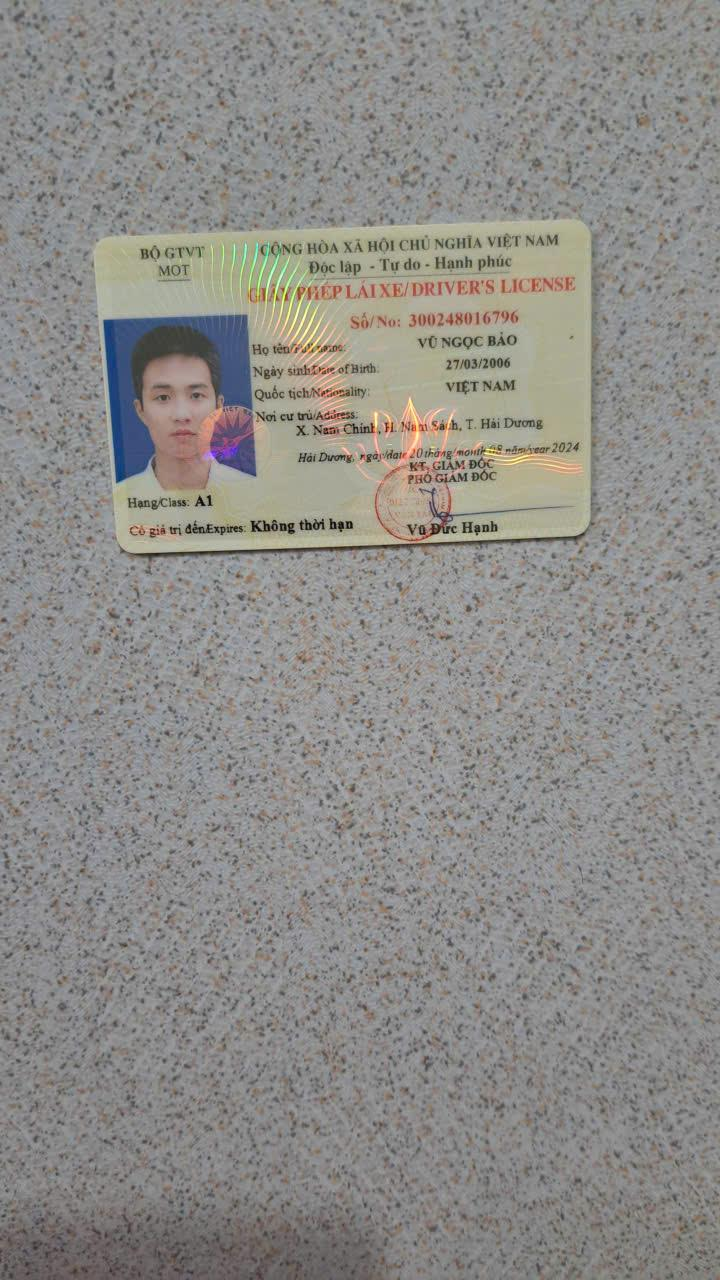gplx: (90, 215, 598, 563)
